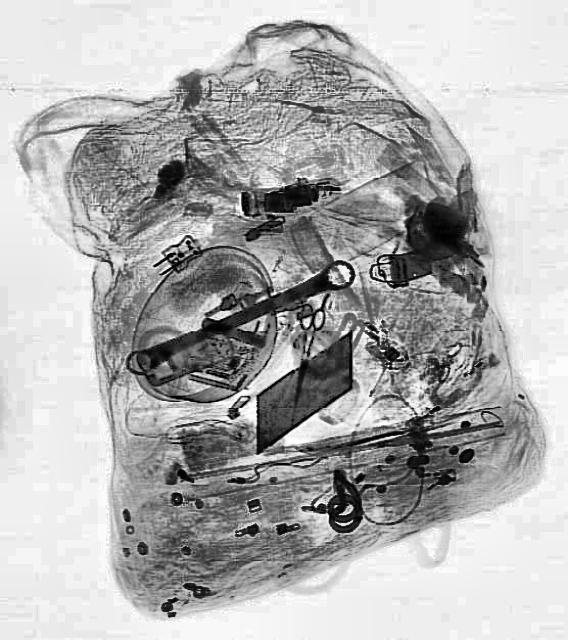Wrench: (118, 254, 358, 380)
